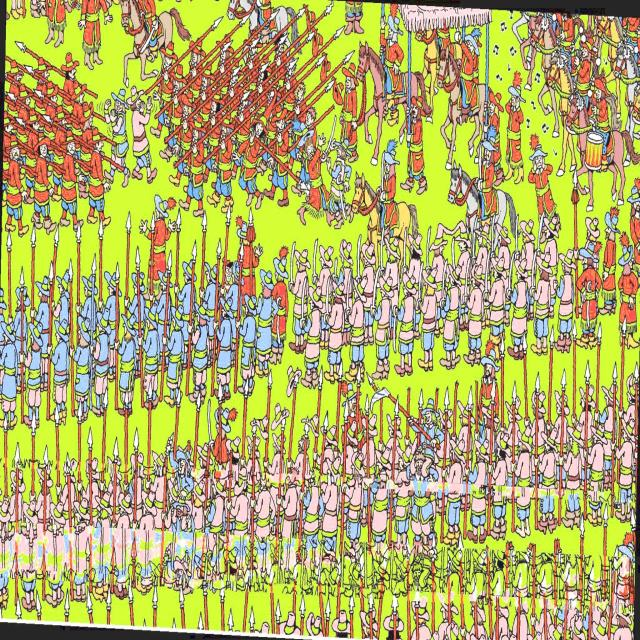waldo: (222, 256, 233, 282)
